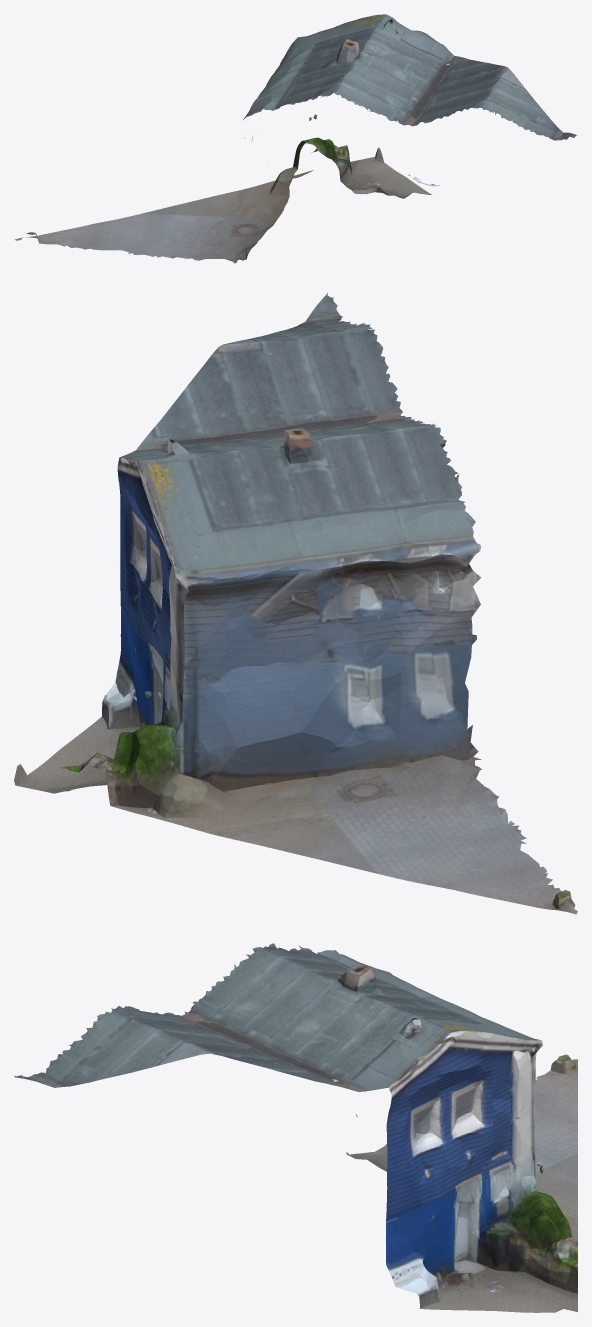
The picture shows the model from 3 angles, top to bottom: view 1: azimuth 30°, elevation 25°; view 2: azimuth 150°, elevation 25°; view 3: azimuth 270°, elevation 25°; orthographic projection. The views are drawn at different scales.
Bounding box in the file's own units: 13.55 × 7.05 × 13.09.
Materials: 1 (1 with a texture image).
